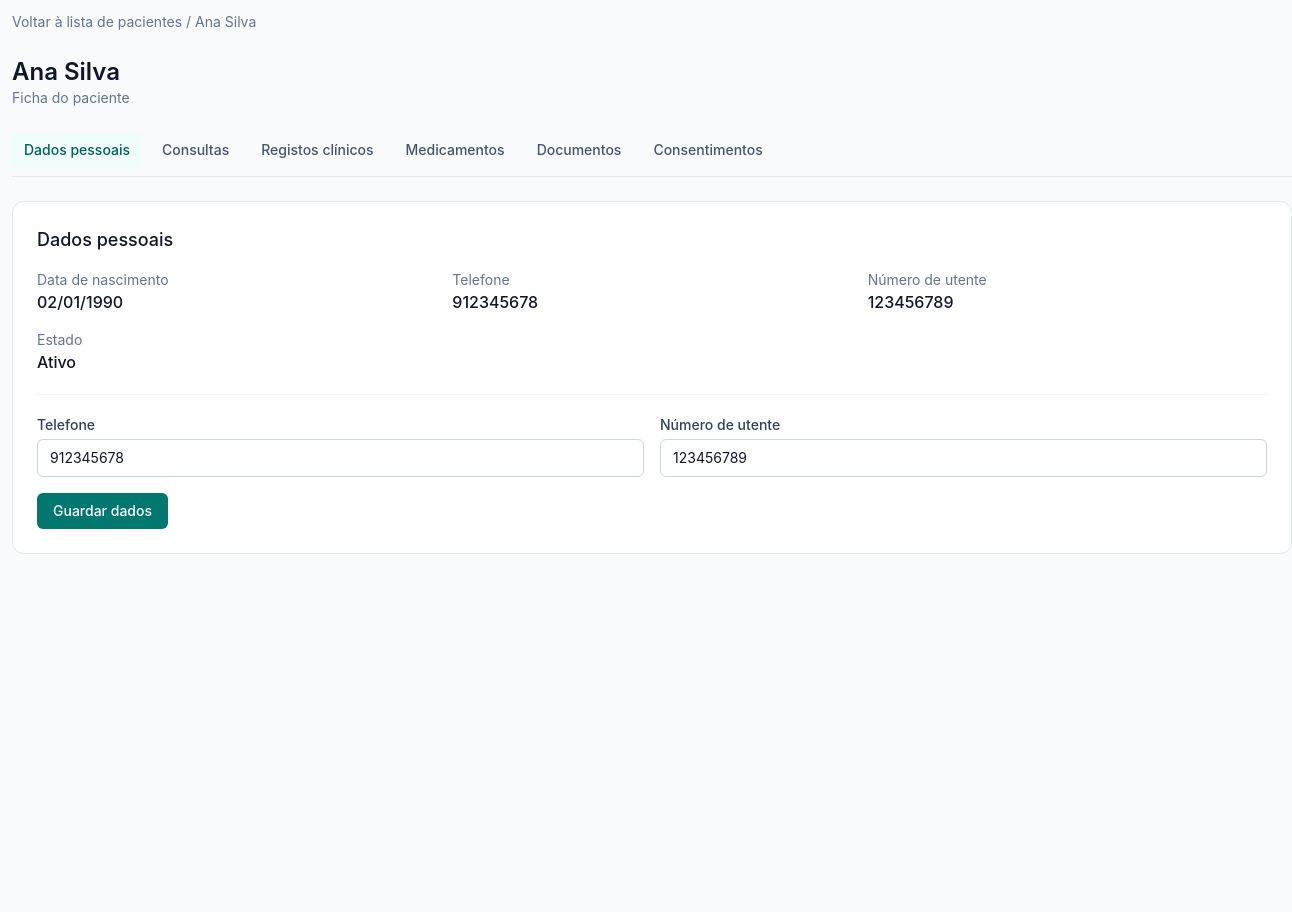
PatientDetailPage medical records (inline section) › shows the empty state
The image size is (1292, 912).
Click the tab "Registos clínicos".
click(317, 150)  # box [249,132,386,168]
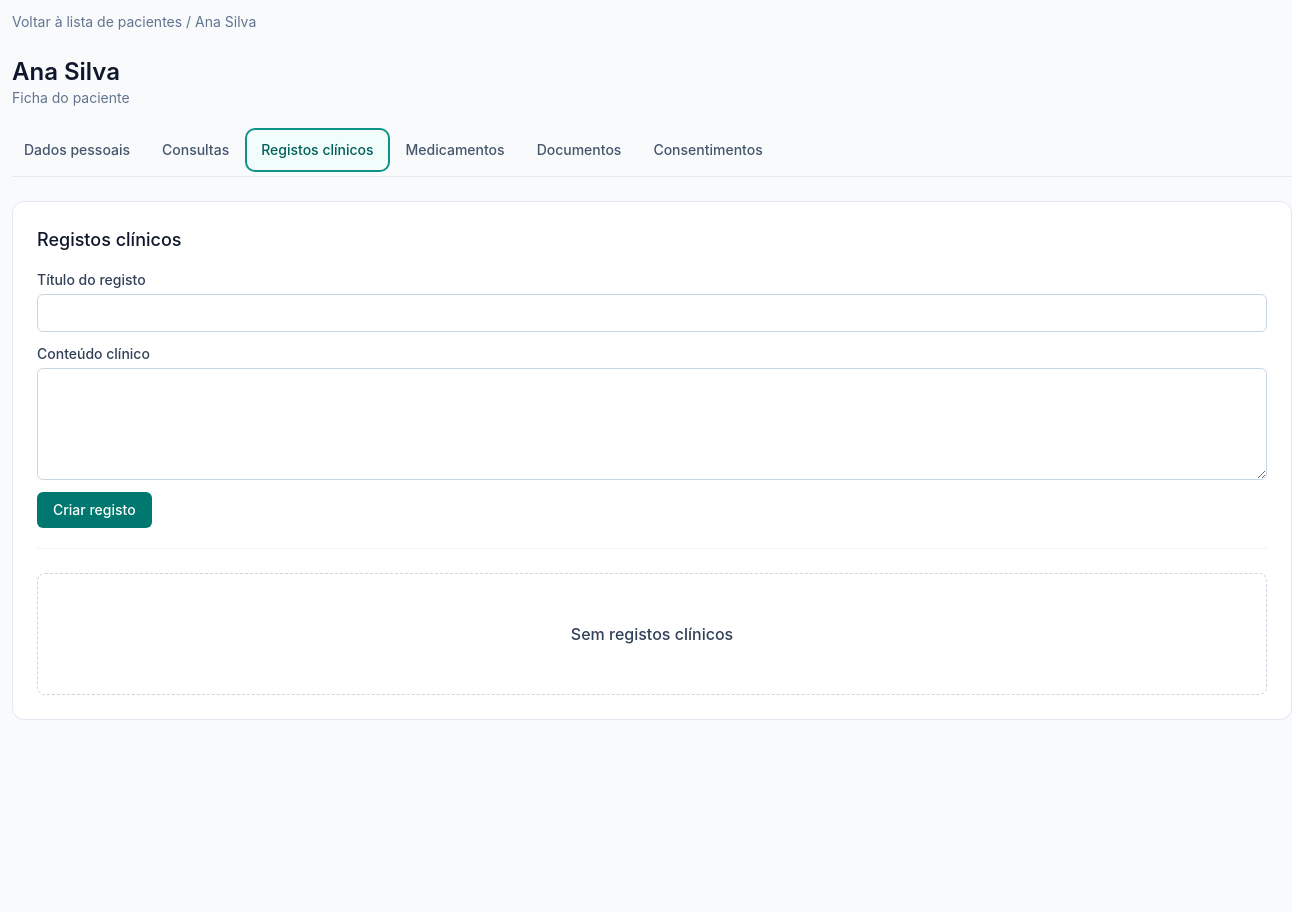
Check: the text "Sem registos clínicos" is shown, box [571,622,733,646]
